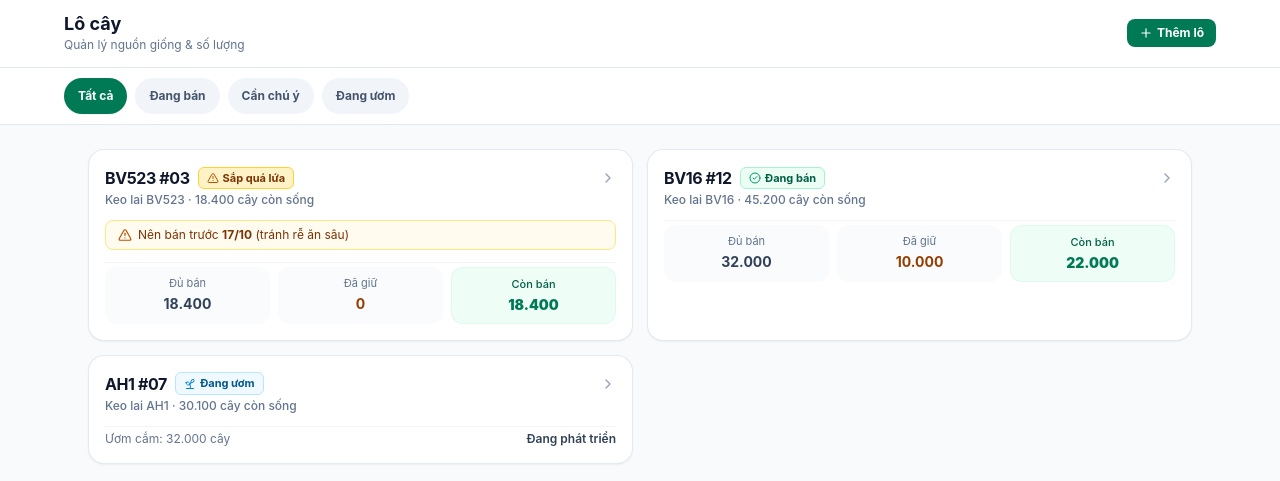
Test: BatchesScreen › filters batches when clicking filter tabs
The width and height of the screenshot is (1280, 481).
Check: the heading "BV523 #03" is shown, box [105, 166, 190, 190]
Click "Cần chú ý" filter tab
What coordinates should you click on to do the following:
click the button "Cần chú ý"
I would click on:
 (271, 96)
Its box is [228, 78, 314, 114].
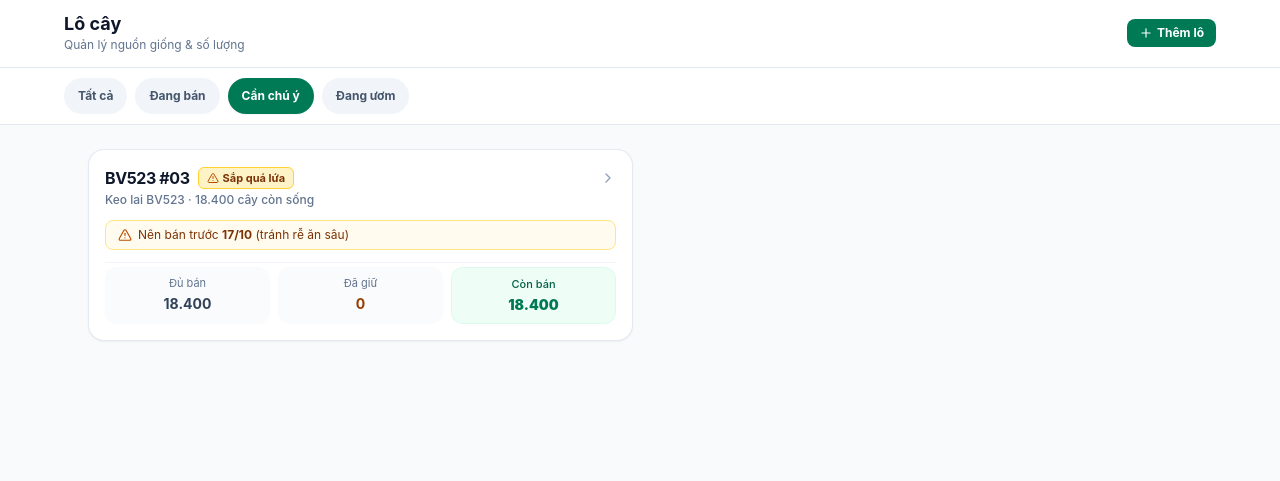
Check: the heading "BV523 #03" is shown, box [105, 166, 190, 190]
Check: the button "AH1 #07" is gone
Click "Tất cả"
What coordinates should you click on to do the following:
click the button "Tất cả"
I would click on:
 (96, 96)
Its box is [64, 78, 128, 114].
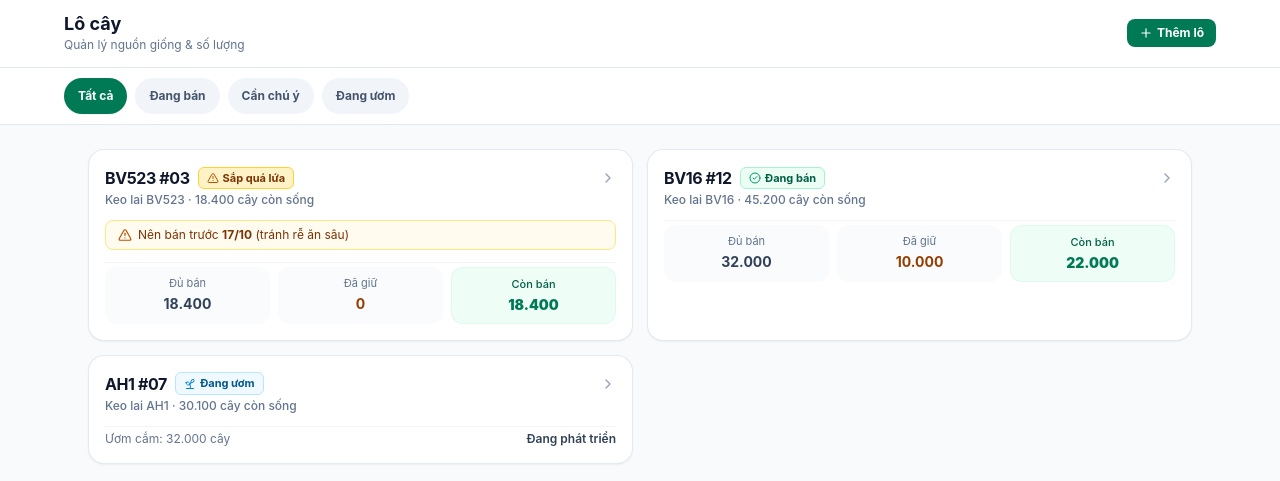
Check: the heading "BV523 #03" is shown, box [105, 166, 190, 190]
Check: the heading "BV16 #12" is shown, box [664, 166, 732, 190]
Check: the heading "AH1 #07" is shown, box [105, 372, 167, 396]
